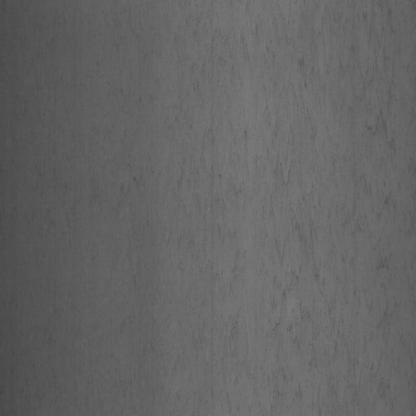silk_spot: (170, 26, 401, 401)
